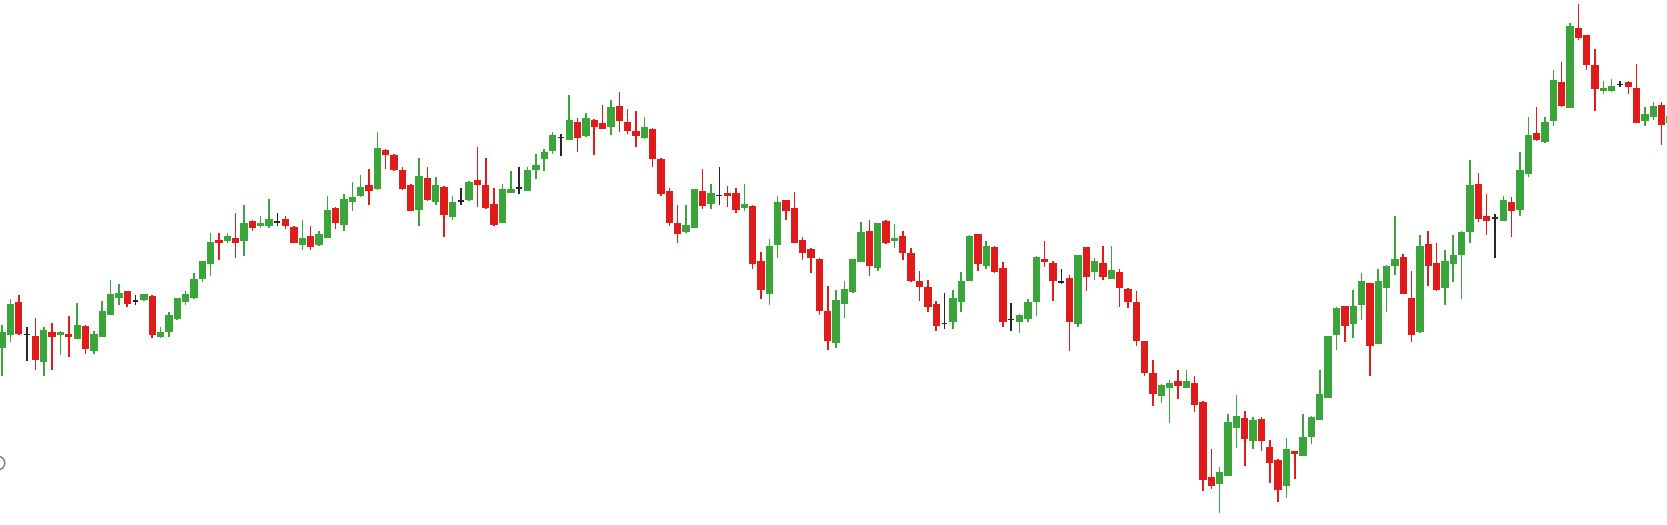buy: (755, 234, 851, 356)
